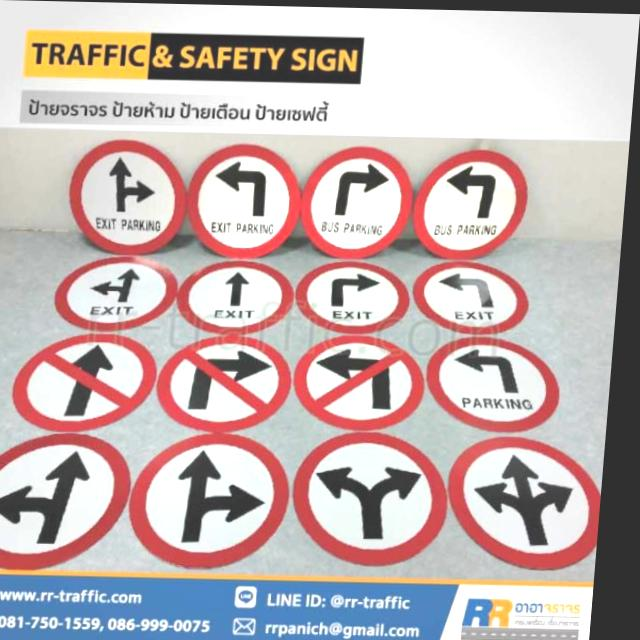not_go_straight: (15, 329, 163, 429)
not_turn_left: (298, 330, 436, 430)
not_turn_right: (161, 325, 303, 432)
